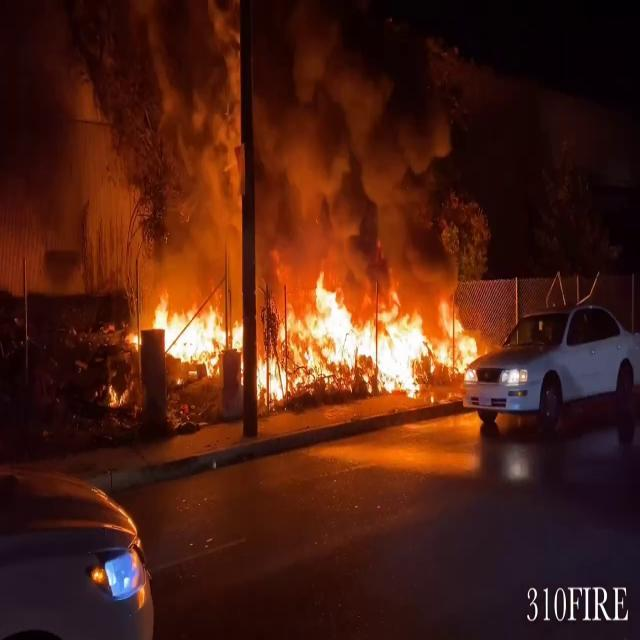Fire: (139, 272, 481, 399)
Smoke: (1, 1, 460, 279)
